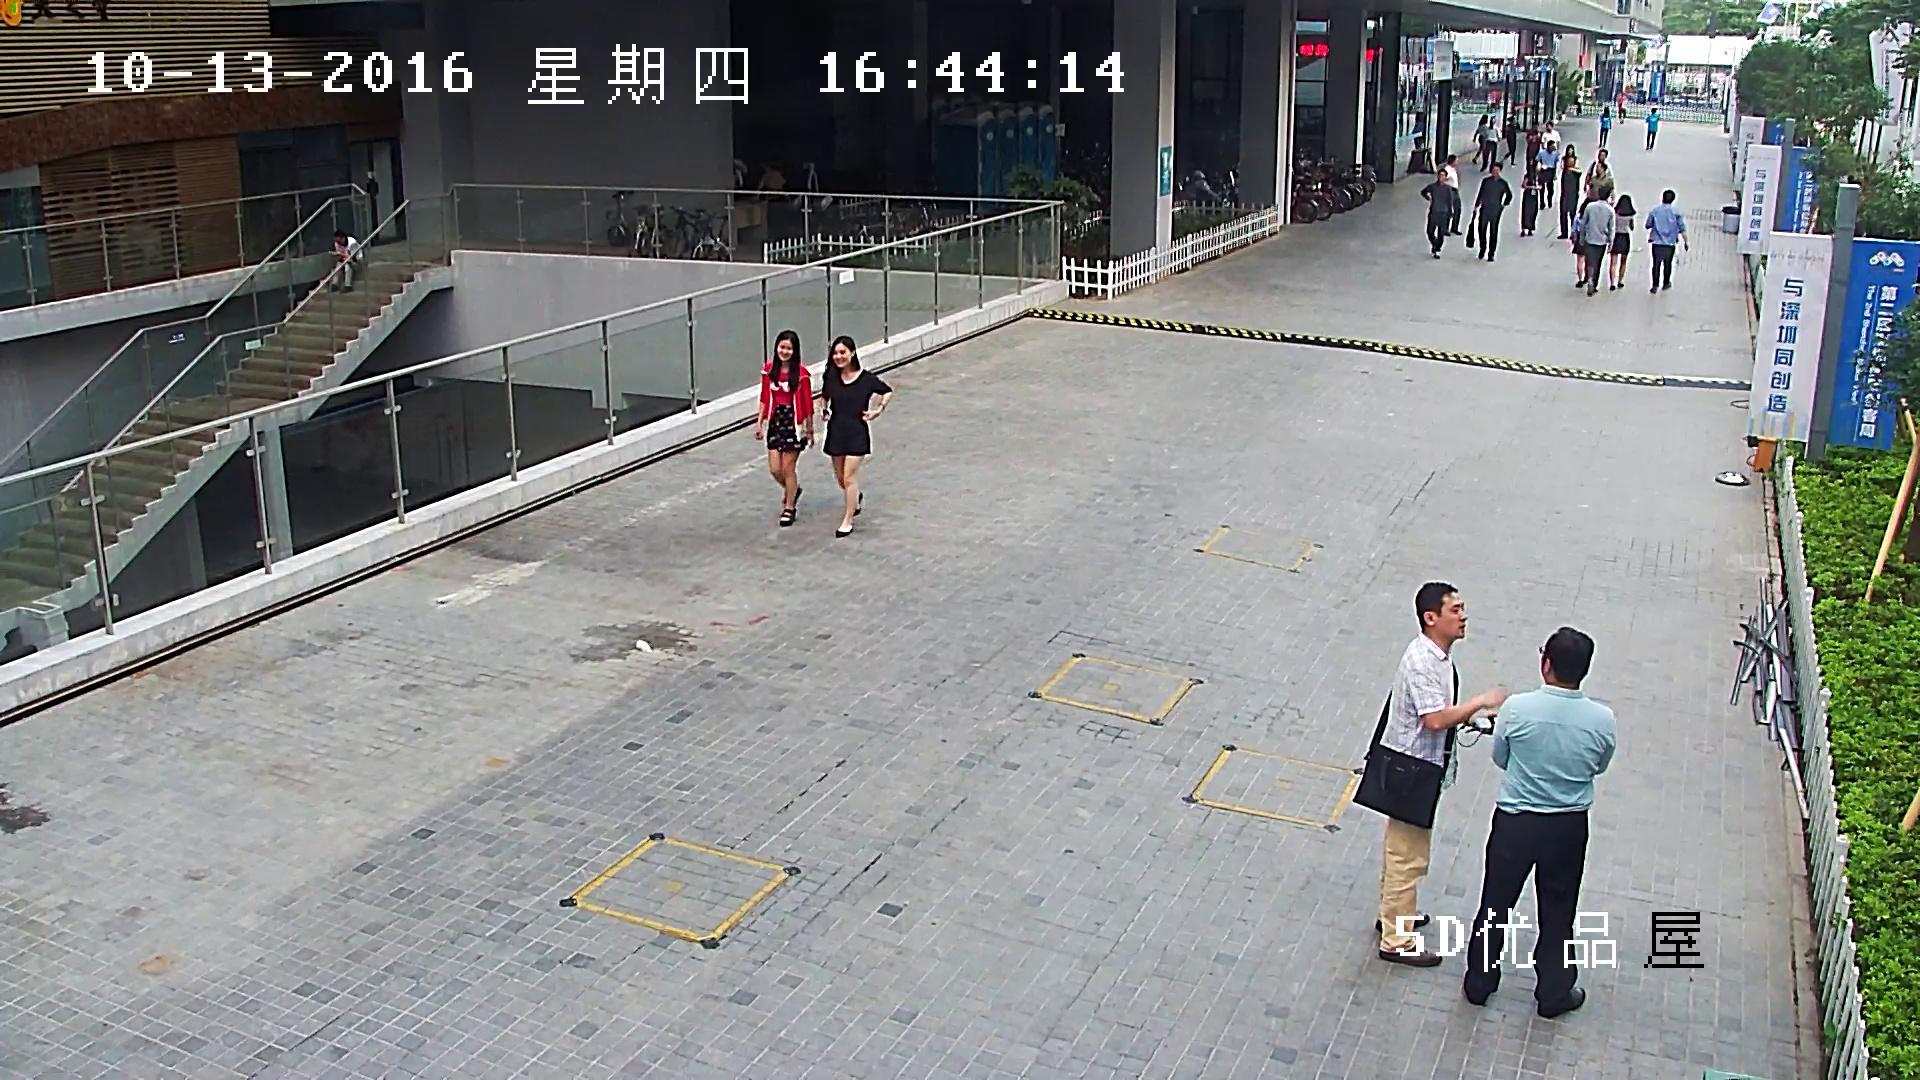person: (1464, 627, 1615, 1019), (1350, 582, 1501, 969), (818, 335, 892, 536), (756, 330, 814, 526), (1466, 163, 1510, 262), (1646, 190, 1688, 292), (1581, 186, 1615, 295), (1420, 169, 1454, 257), (1609, 196, 1635, 290), (330, 231, 363, 293), (1558, 156, 1580, 239), (1570, 198, 1590, 288), (1534, 141, 1558, 209), (1442, 155, 1462, 235), (1519, 165, 1540, 238), (1584, 150, 1612, 200), (1479, 115, 1501, 174), (1586, 163, 1613, 206), (1471, 114, 1488, 164), (1526, 121, 1540, 172), (1503, 116, 1516, 168), (1645, 107, 1659, 150), (1540, 121, 1562, 149), (1598, 106, 1611, 148), (1560, 144, 1580, 169), (1617, 93, 1627, 122)
